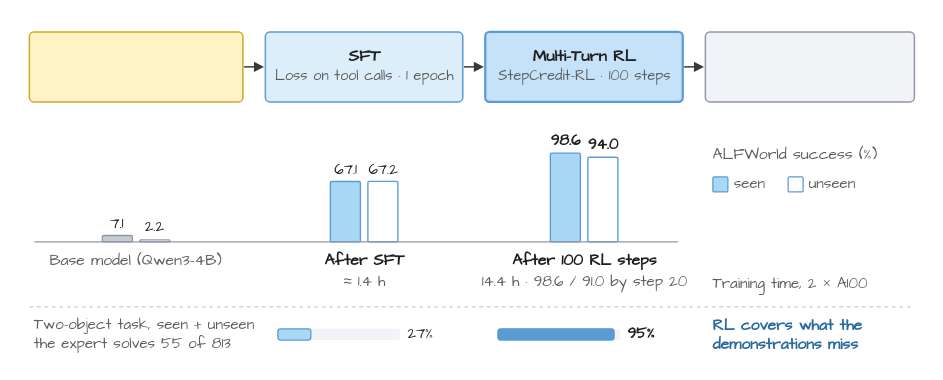
Image size: 943x380. Some labels were removed from this diagram. Each missing label, with the centre of its shape:
"Expert Demonstrations 2,145 of 3,553 games solved" goes at point 135,66.
"Paired Evaluation Same tasks · McNemar test" goes at point 809,66.
